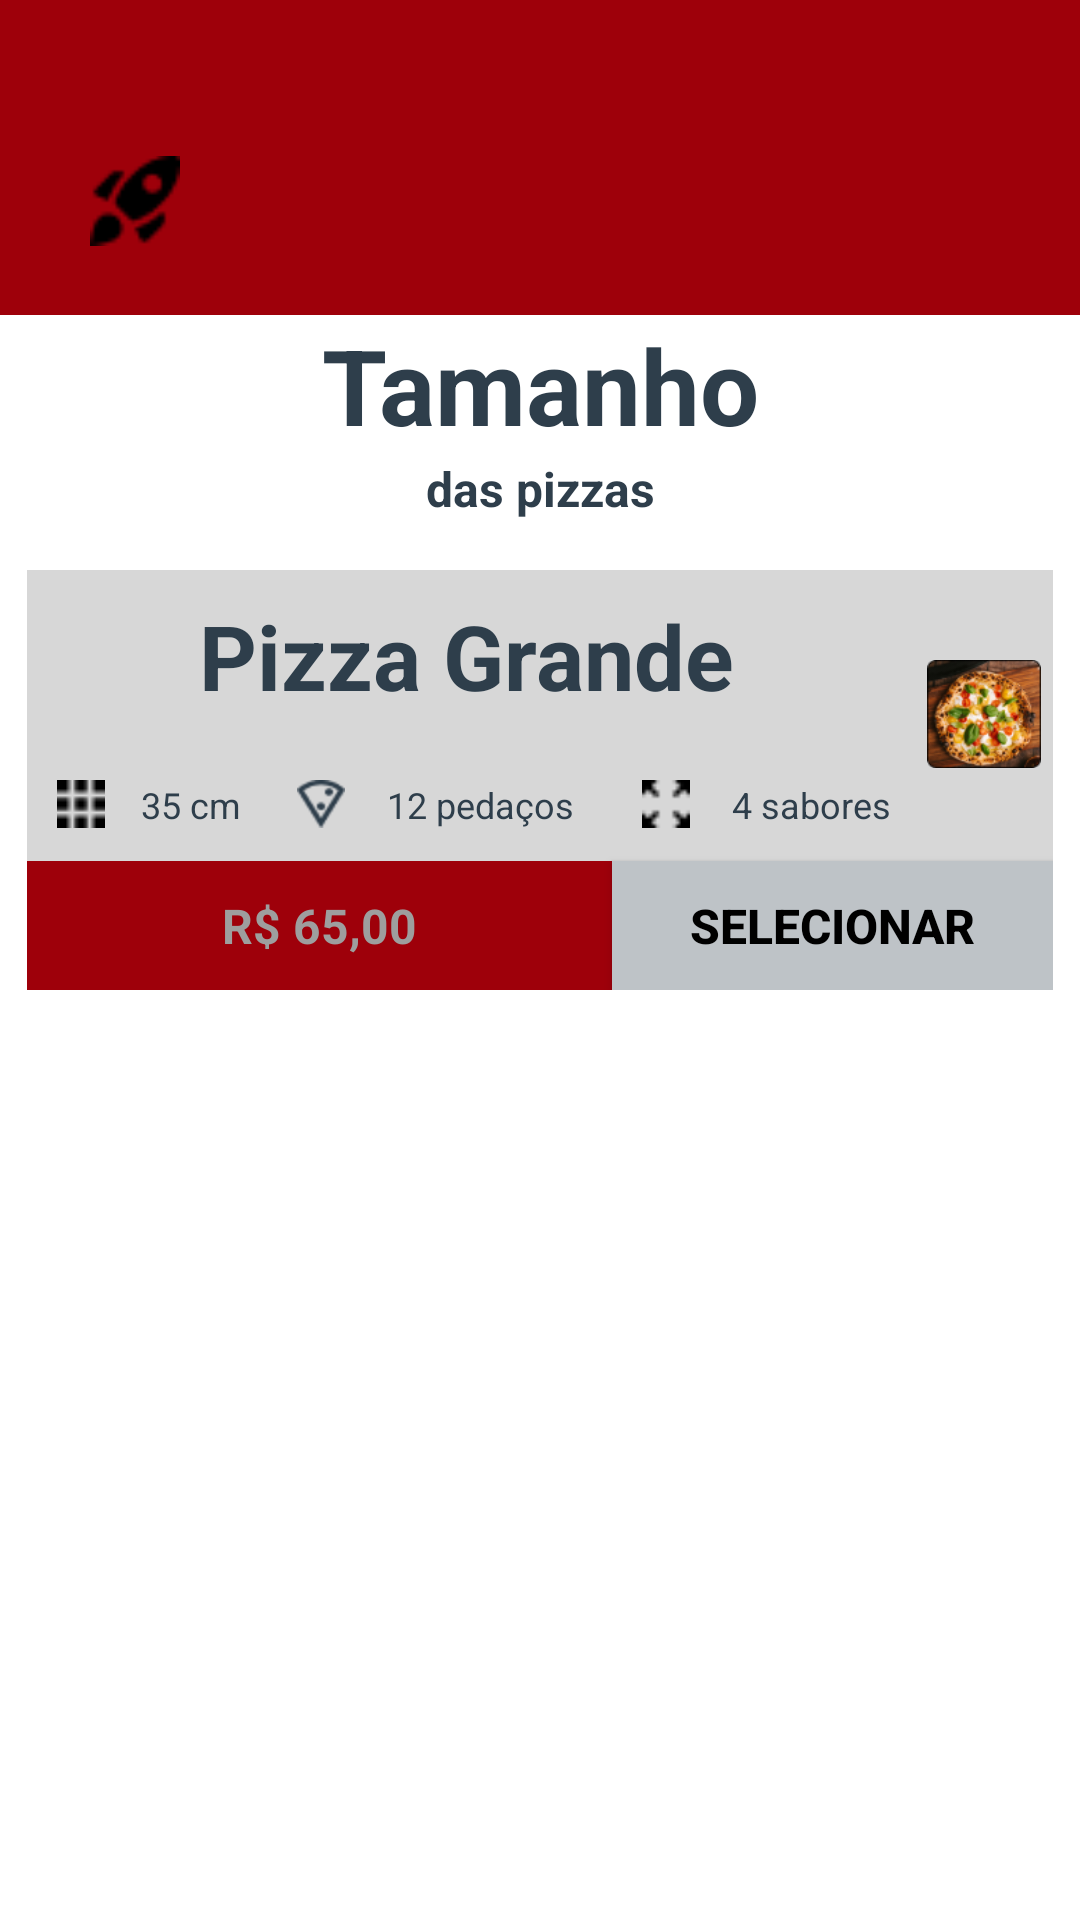

Point at icon controls on the screen. Image size 1080px x 1920px, points as (x,y).
foto pizza: (984,714)
max: (666,804)
rocket: (135,201)
